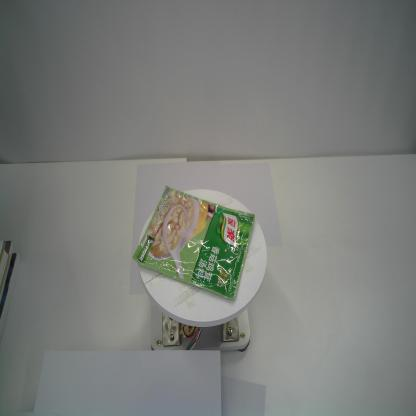Seasoner: (131, 185, 255, 300)
